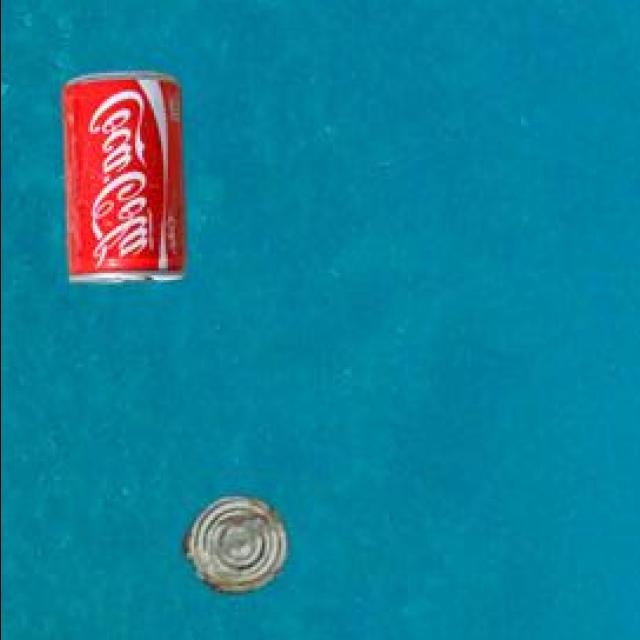logam: (65, 74, 187, 286), (187, 500, 291, 596)
